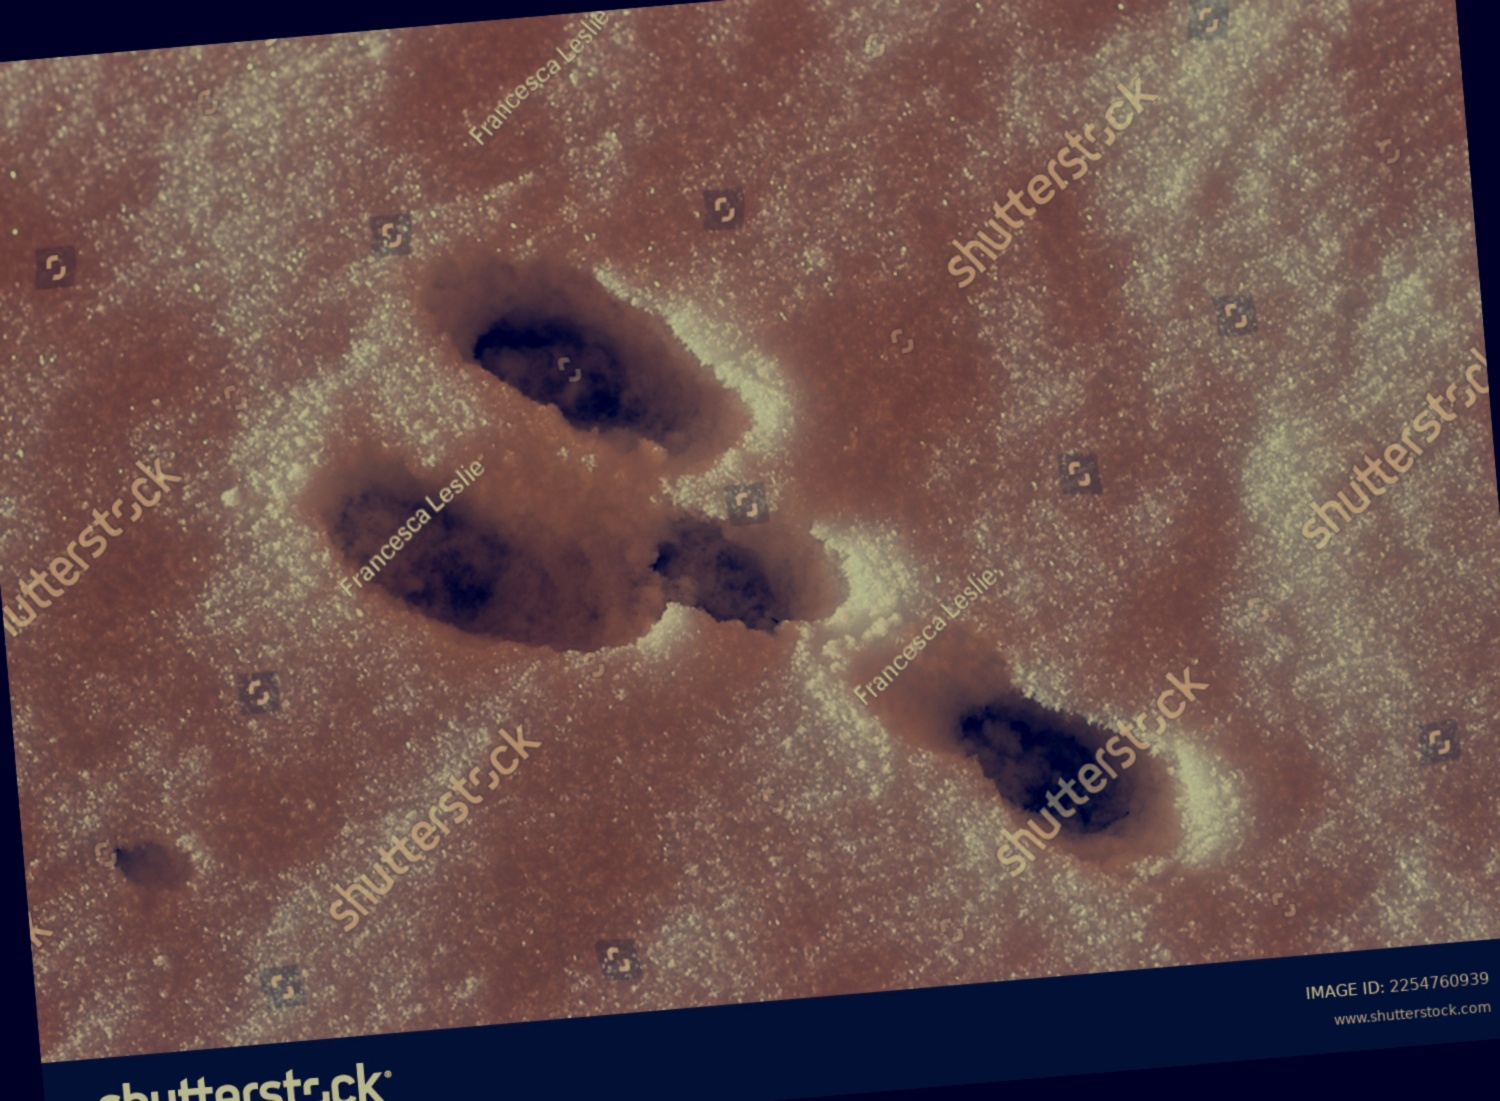lapin: (288, 445, 877, 645), (833, 648, 1179, 915), (473, 228, 773, 470)
